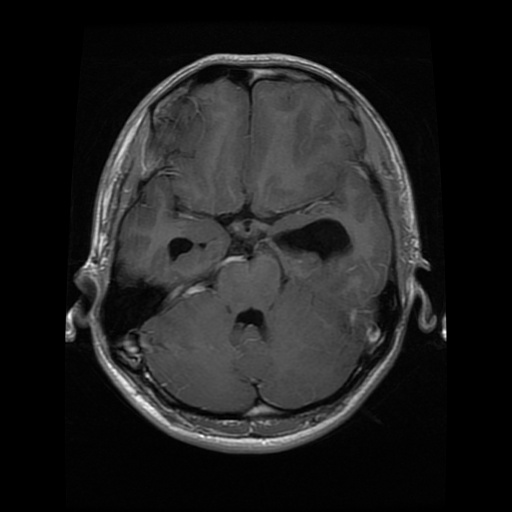glioma: (276, 221, 351, 257)
